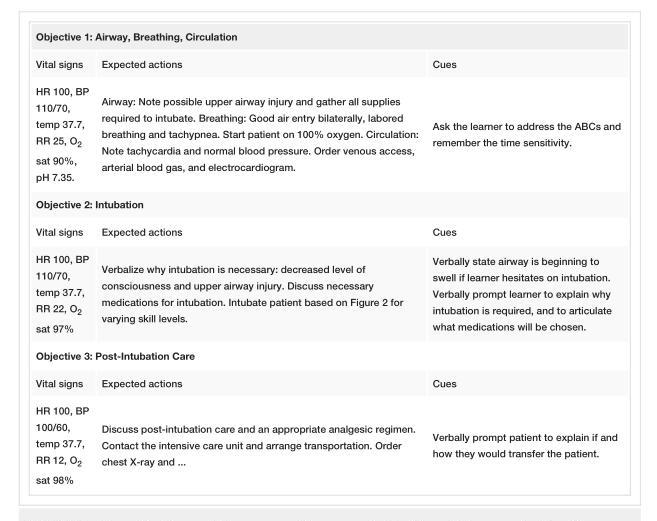table: (35, 34, 620, 483)
table column: (94, 34, 424, 483), (424, 34, 620, 483), (35, 34, 94, 483)
table projected row header: (35, 191, 620, 219), (35, 343, 620, 370), (35, 34, 620, 51)
table row: (35, 78, 620, 191), (35, 246, 620, 343), (35, 397, 620, 483), (35, 191, 620, 219), (35, 51, 620, 78), (35, 219, 620, 246), (35, 343, 620, 370), (35, 370, 620, 397), (35, 34, 620, 51)
